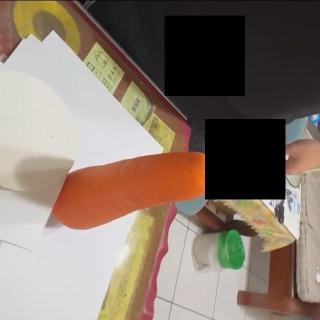carrot: (51, 150, 219, 230)
